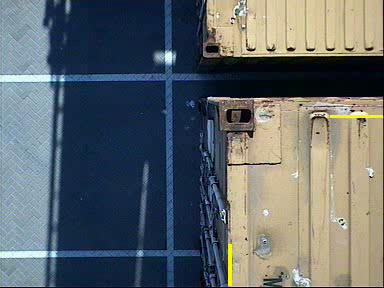groundmarker_2: (92, 131, 170, 190)
